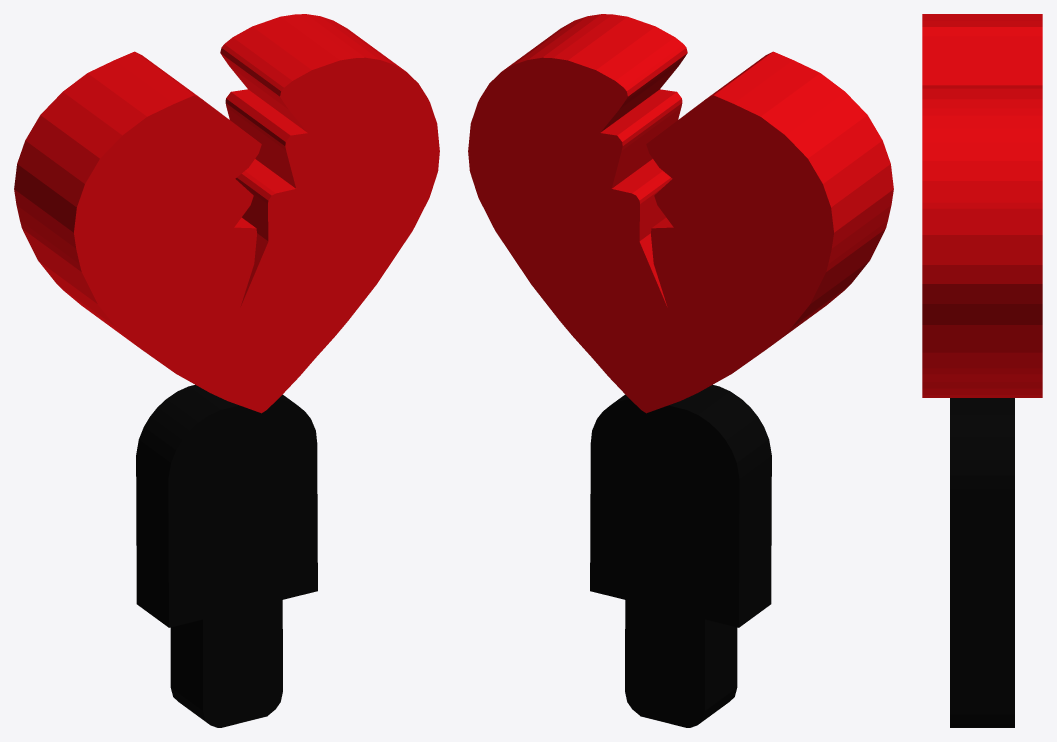
File: LeaveMeAlone.fbx
3 renders of one model, left to right at view 1: azimuth 30°, elevation 25°; view 2: azimuth 150°, elevation 25°; view 3: azimuth 270°, elevation 25°, orthographic.
Visible parts, largest first — view 1: Cube, Cube.001; view 2: Cube, Cube.001; view 3: Cube, Cube.001.
Part boxes in pixels (bbox=[...]): Cube: bbox=[14, 14, 439, 413]; Cube.001: bbox=[136, 384, 317, 727]; Cube: bbox=[468, 14, 893, 413]; Cube.001: bbox=[590, 384, 771, 727]; Cube: bbox=[922, 14, 1042, 397]; Cube.001: bbox=[950, 398, 1014, 727].
Bounding box in the file's own units: 278 × 474 × 78.71.
